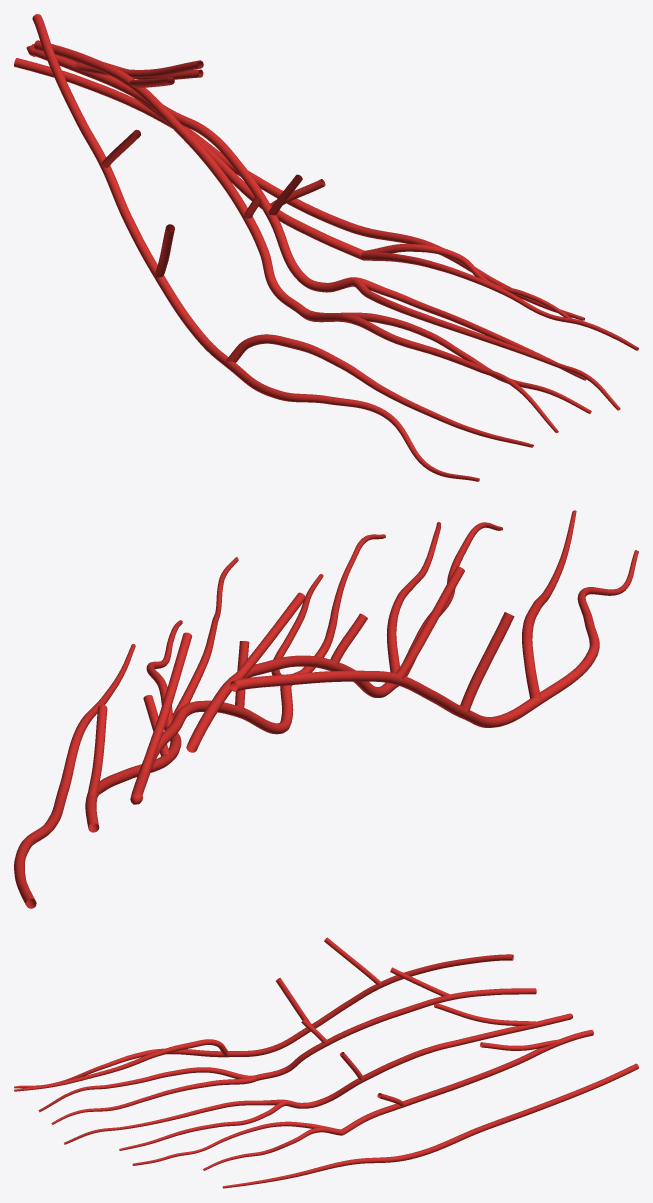
Rendered from circulatorio-plantar-metatarsal-arteries-l.glb.
3 views of the same model, one above another, from view 1: azimuth 30°, elevation 25°; view 2: azimuth 150°, elevation 25°; view 3: azimuth 270°, elevation 25° (orthographic). The views are drawn at different scales.
Visible parts, largest first — view 1: Proper plantar digital arteries.l, Plantar metatarsal arteries.l, Common plantar digital arteries.l, Perforating branches of plantar metatarsal arteries.l; view 2: Proper plantar digital arteries.l, Plantar metatarsal arteries.l, Perforating branches of plantar metatarsal arteries.l, Common plantar digital arteries.l; view 3: Proper plantar digital arteries.l, Plantar metatarsal arteries.l, Perforating branches of plantar metatarsal arteries.l, Common plantar digital arteries.l.
Boxes of the visible parts, x1,y1,x2,y2 form: Proper plantar digital arteries.l: (14,58,638,481); Plantar metatarsal arteries.l: (26,14,271,277); Common plantar digital arteries.l: (154,210,364,365); Perforating branches of plantar metatarsal arteries.l: (75,60,325,277); Proper plantar digital arteries.l: (14,510,638,908); Plantar metatarsal arteries.l: (85,655,467,832); Perforating branches of plantar metatarsal arteries.l: (87,566,514,796); Common plantar digital arteries.l: (164,662,540,762); Proper plantar digital arteries.l: (14,1039,638,1188); Plantar metatarsal arteries.l: (311,954,593,1107); Perforating branches of plantar metatarsal arteries.l: (276,937,559,1105); Common plantar digital arteries.l: (226,1027,403,1135).
Bounding box in the file's own units: 0.0627 × 0.0353 × 0.1436.
